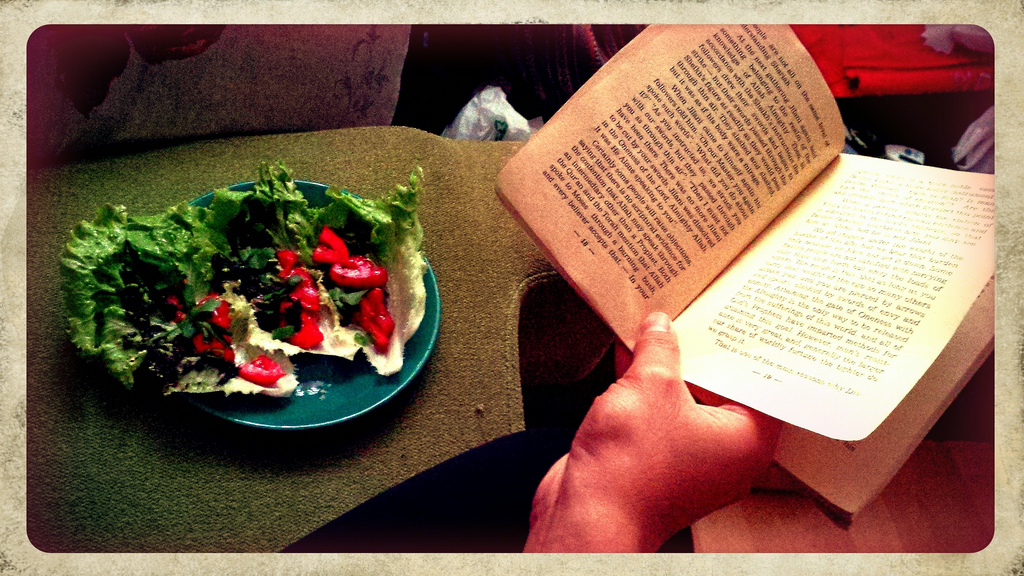chopped lettuce: (93, 193, 432, 383)
